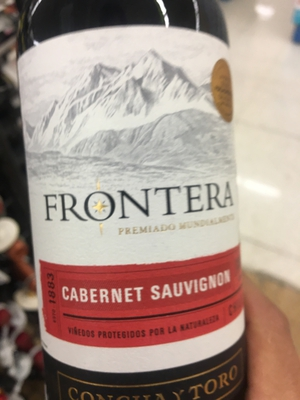frontera cabernet sauvignon: (16, 8, 250, 400)
